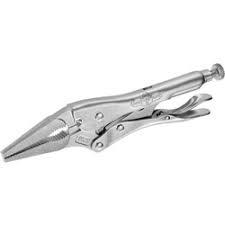pliers: (0, 62, 224, 162)
